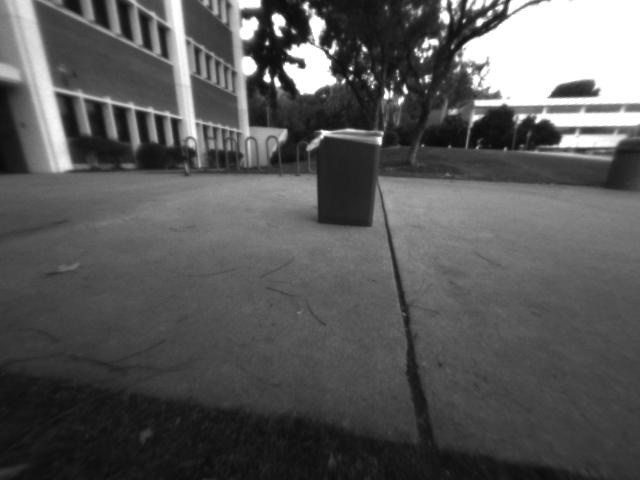trashcan_open: (310, 125, 382, 229)
